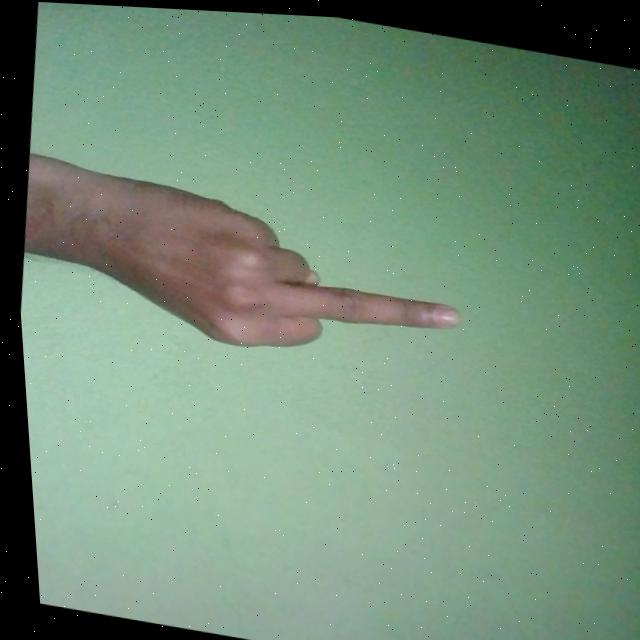Middle Finger: (36, 163, 467, 380)
